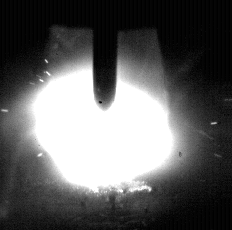arame: (93, 0, 118, 110)
poca: (35, 0, 170, 230)
